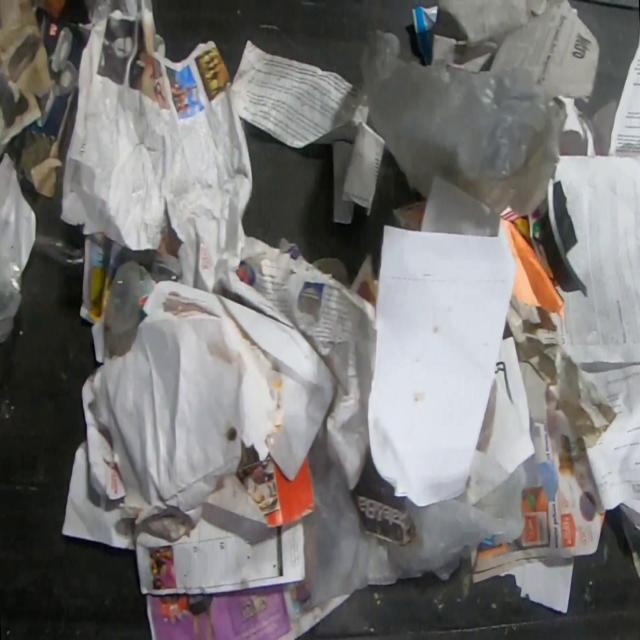cardboard: (90, 278, 285, 543)
rigid_plastic: (102, 257, 156, 359)
soft_plastic: (341, 25, 568, 217), (301, 421, 528, 608), (32, 229, 84, 275), (0, 256, 24, 344)
